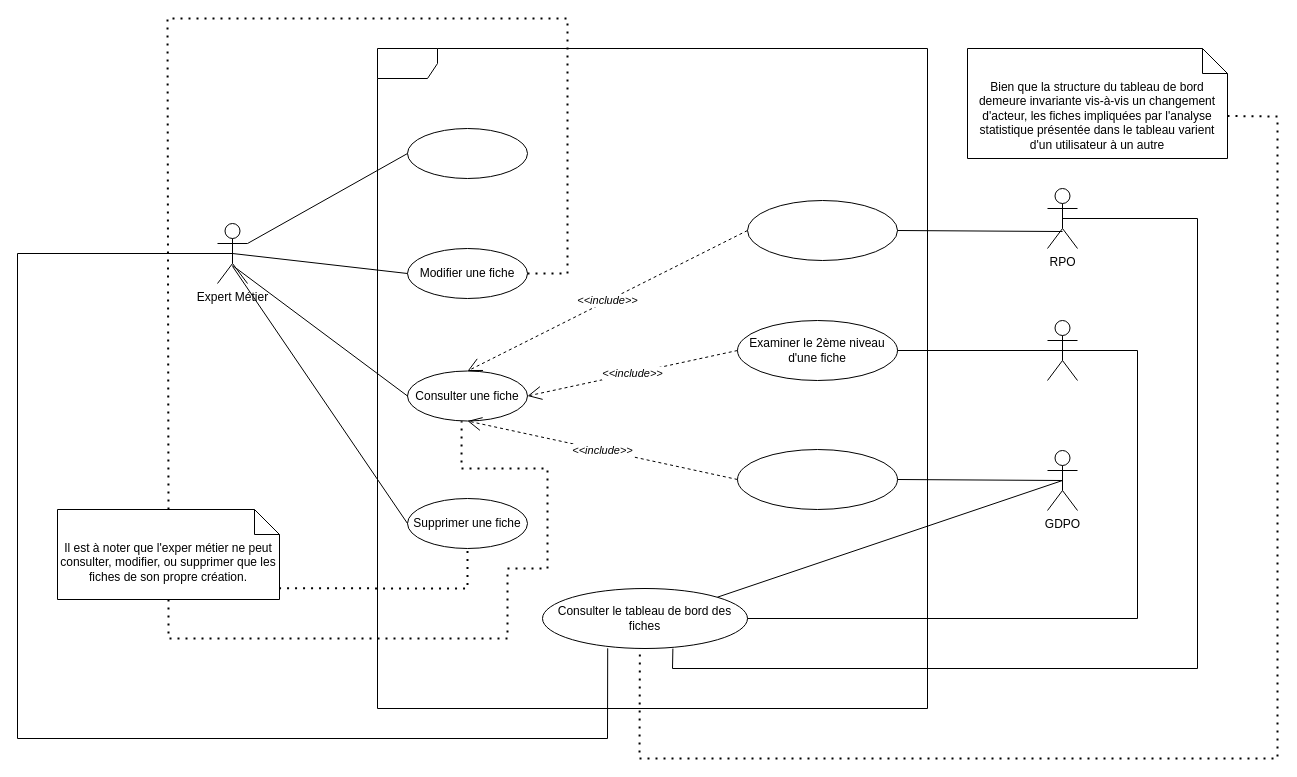
Some shapes in this 1297 by 777 pixel diagram are drawn without their labels. The box of each missing label's shape, as (x1, y1, x2, y2) in pixels:
Créer une fiche: (406, 128, 528, 178)
DPO: (1046, 320, 1078, 380)
Examiner le 1er niveau d'une fiche: (746, 200, 898, 260)
Examiner le 3ème niveau d'une fiche: (736, 448, 898, 510)
frame: (376, 48, 928, 708)
